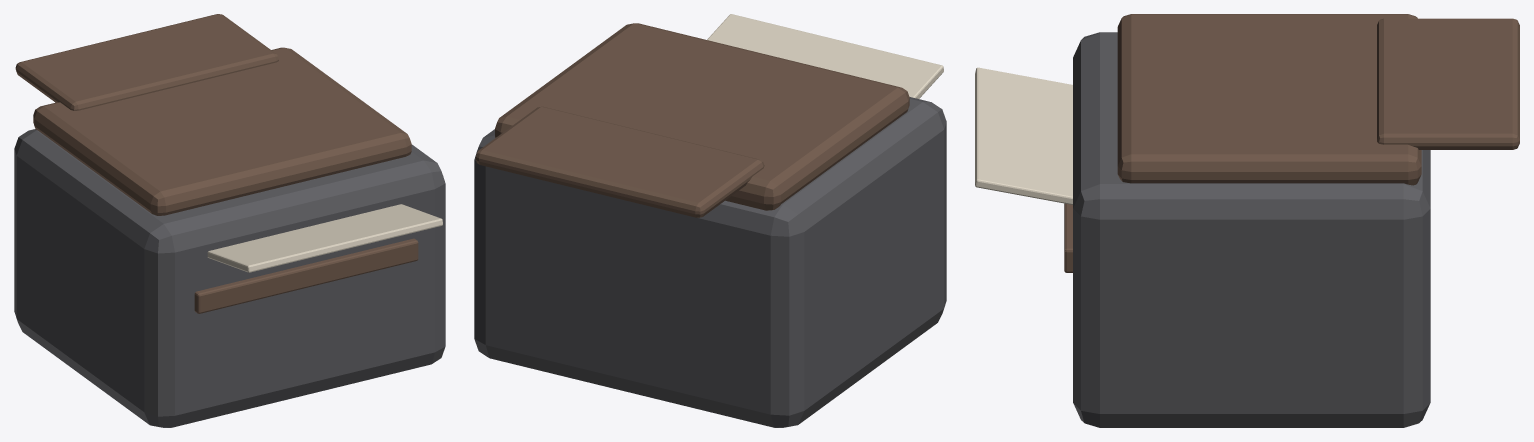
The picture shows the model from 3 angles, left to right: view 1: azimuth 30°, elevation 25°; view 2: azimuth 150°, elevation 25°; view 3: azimuth 270°, elevation 25°; orthographic projection. The views are drawn at different scales.
Visible parts, largest first — view 1: printer; view 2: printer; view 3: printer.
Boxes of the visible parts, bbox=[...] form: printer: bbox=[14, 14, 445, 427]; printer: bbox=[474, 14, 946, 427]; printer: bbox=[975, 14, 1519, 427].
Size of the model in its own units: 0.46 by 0.34 by 0.6097.
